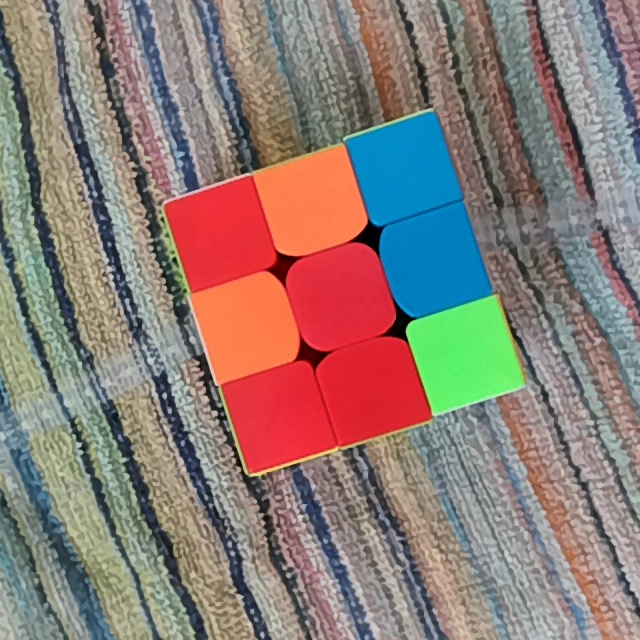tile: (241, 379, 315, 452), (400, 224, 471, 300), (210, 290, 283, 363), (428, 319, 501, 391), (366, 133, 439, 204), (184, 198, 255, 270), (271, 169, 347, 236), (304, 263, 378, 330), (339, 352, 408, 422)
